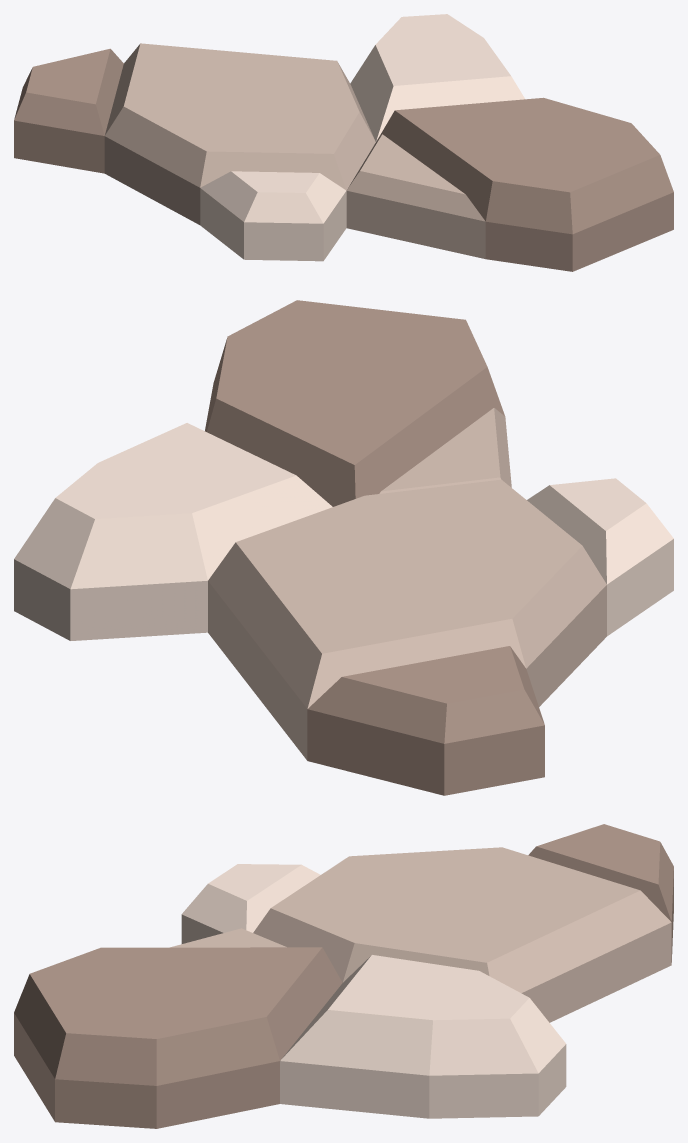
File: rock-type4-01-sand.glb
The picture shows the model from 3 angles, top to bottom: view 1: azimuth 30°, elevation 25°; view 2: azimuth 150°, elevation 25°; view 3: azimuth 270°, elevation 25°; orthographic projection. The views are drawn at different scales.
Visible parts, largest first — view 1: Rock_Type4_01_mesh; view 2: Rock_Type4_01_mesh; view 3: Rock_Type4_01_mesh.
Boxes of the visible parts, <box> form: Rock_Type4_01_mesh: <box>14,14,673,271</box>; Rock_Type4_01_mesh: <box>14,300,673,795</box>; Rock_Type4_01_mesh: <box>14,824,673,1128</box>.
Size of the model in its own units: 1.86 by 0.3156 by 2.14.
1 material, 1 textured.
